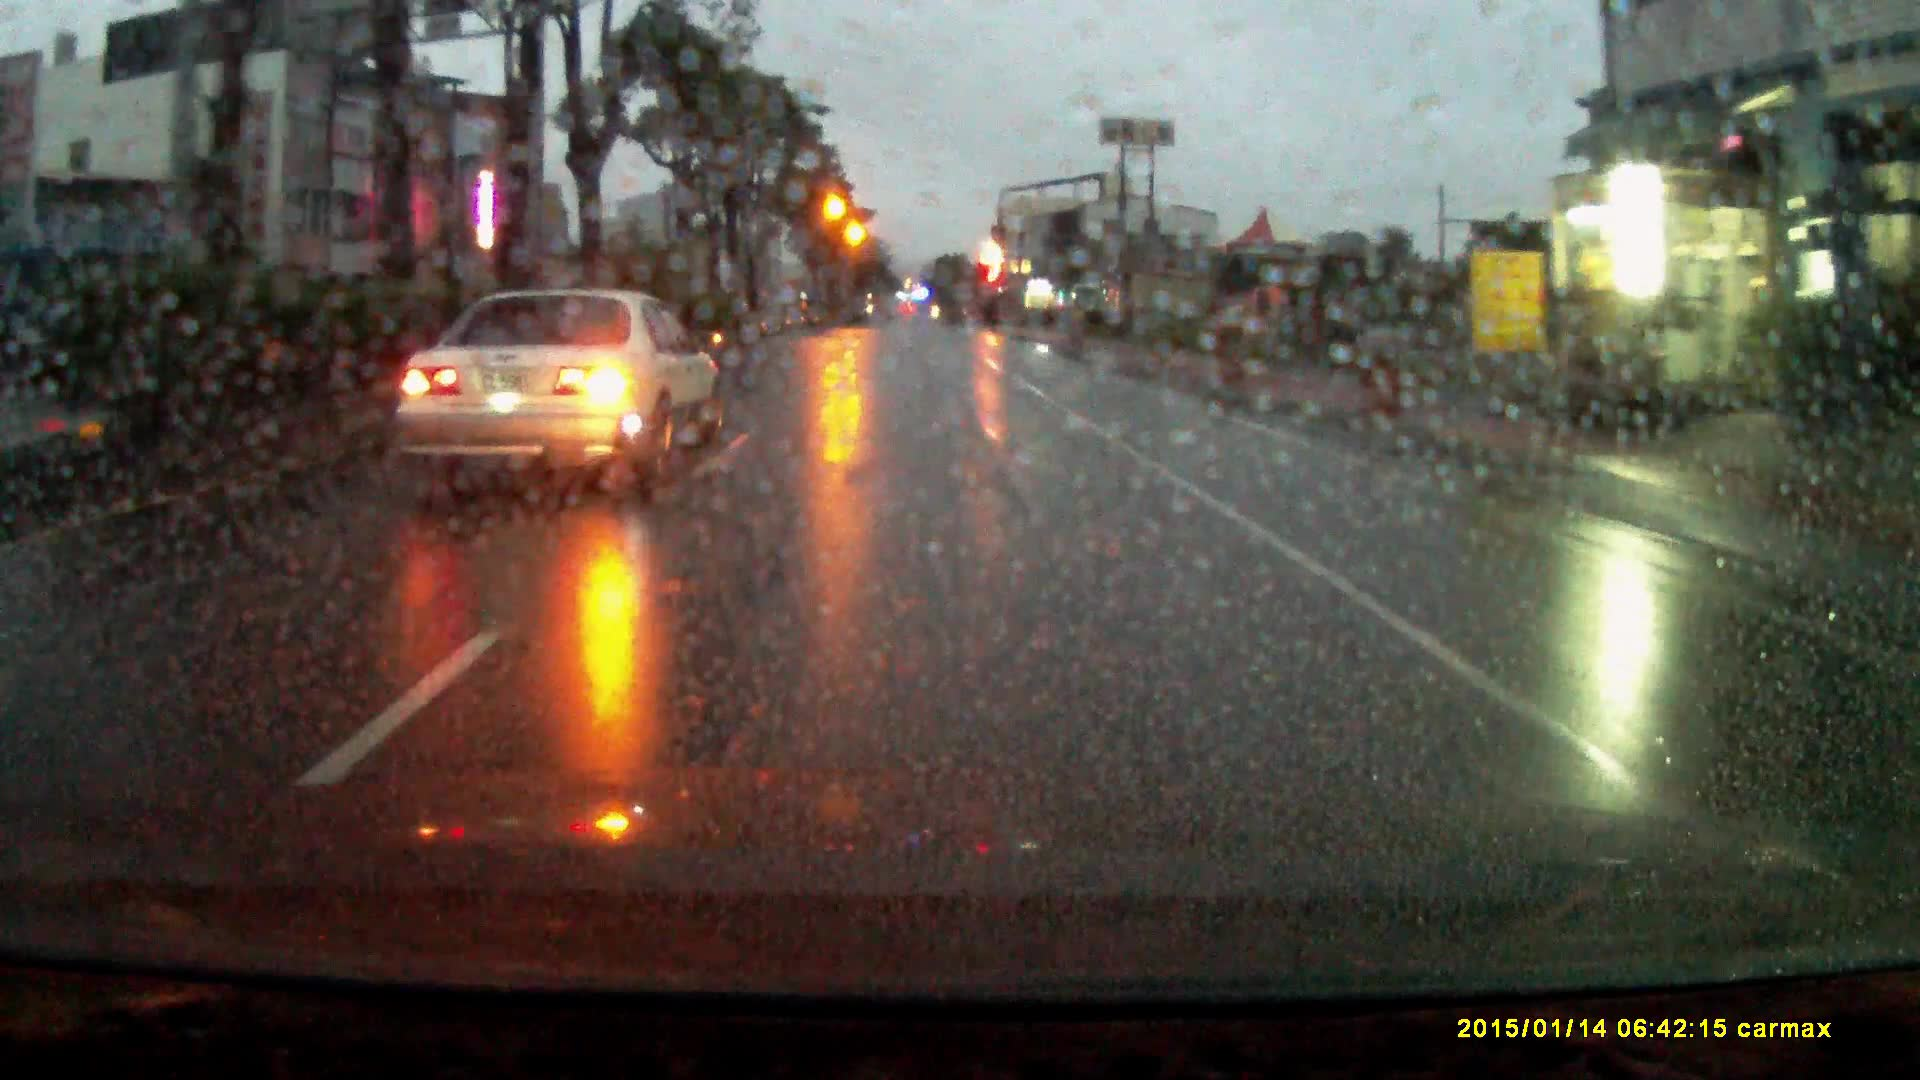vehicle: (394, 289, 731, 504)
